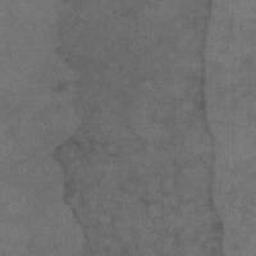Water spot: (52, 0, 225, 256), (56, 79, 67, 92)
